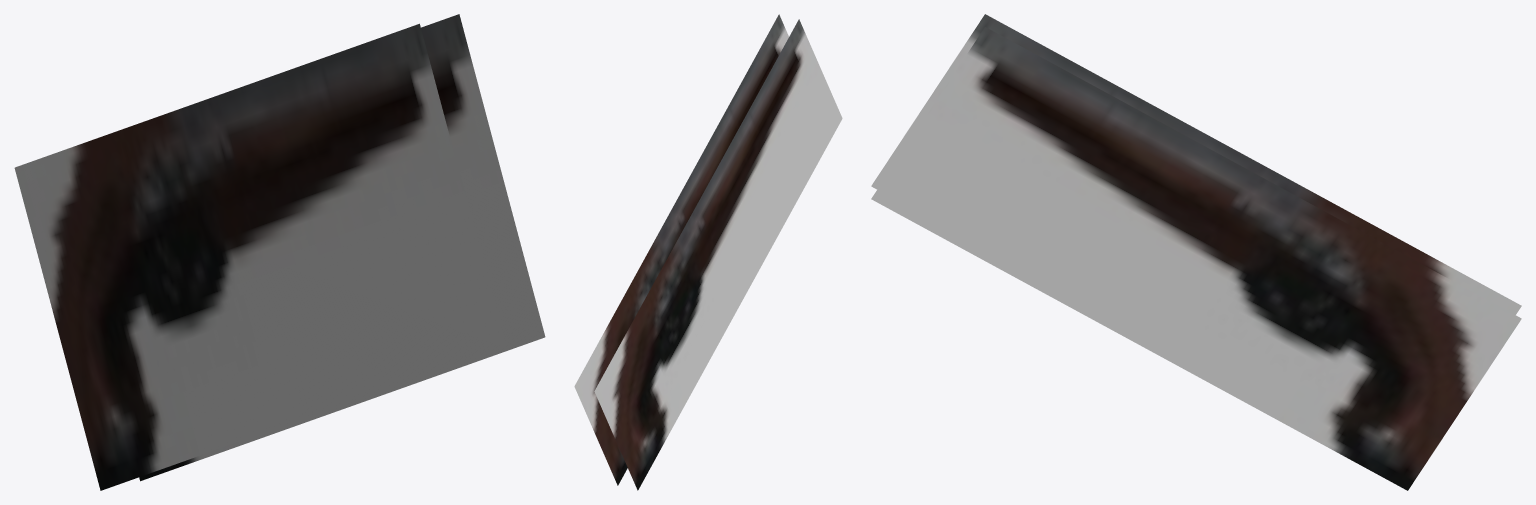
Rendered from sign1_spanish_a_icon_weapons.fbx.
The picture shows the model from 3 angles, left to right: view 1: azimuth 30°, elevation 25°; view 2: azimuth 150°, elevation 25°; view 3: azimuth 270°, elevation 25°; orthographic projection. The views are drawn at different scales.
Visible parts, largest first — view 1: icons; view 2: icons; view 3: icons.
Boxes of the visible parts, x1,y1,x2,y2 form: icons: [14, 14, 545, 490]; icons: [574, 14, 842, 490]; icons: [871, 14, 1521, 490].
Size of the model in its own units: 16.67 by 282 by 358.
Materials: 1 (1 with a texture image).
